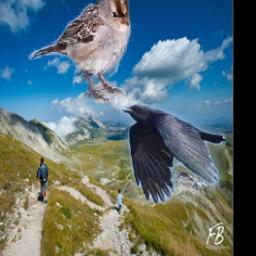Crow: (121, 104, 227, 204)
Sparrow: (29, 0, 135, 104)
